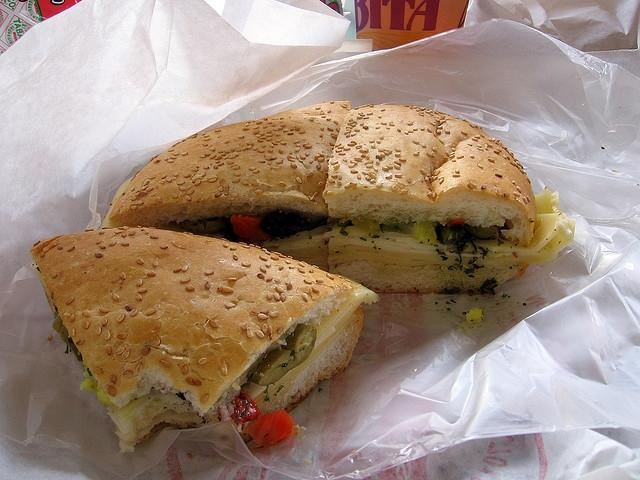bell pepper: (242, 410, 296, 447), (230, 213, 272, 240), (231, 392, 263, 424), (448, 219, 467, 224)
